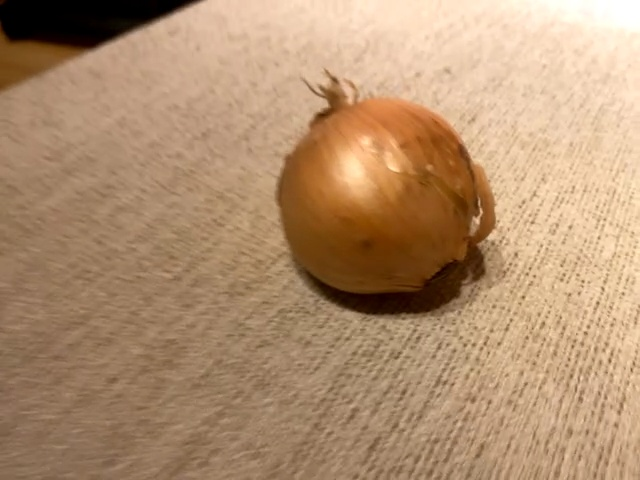onion: (274, 65, 498, 303)
